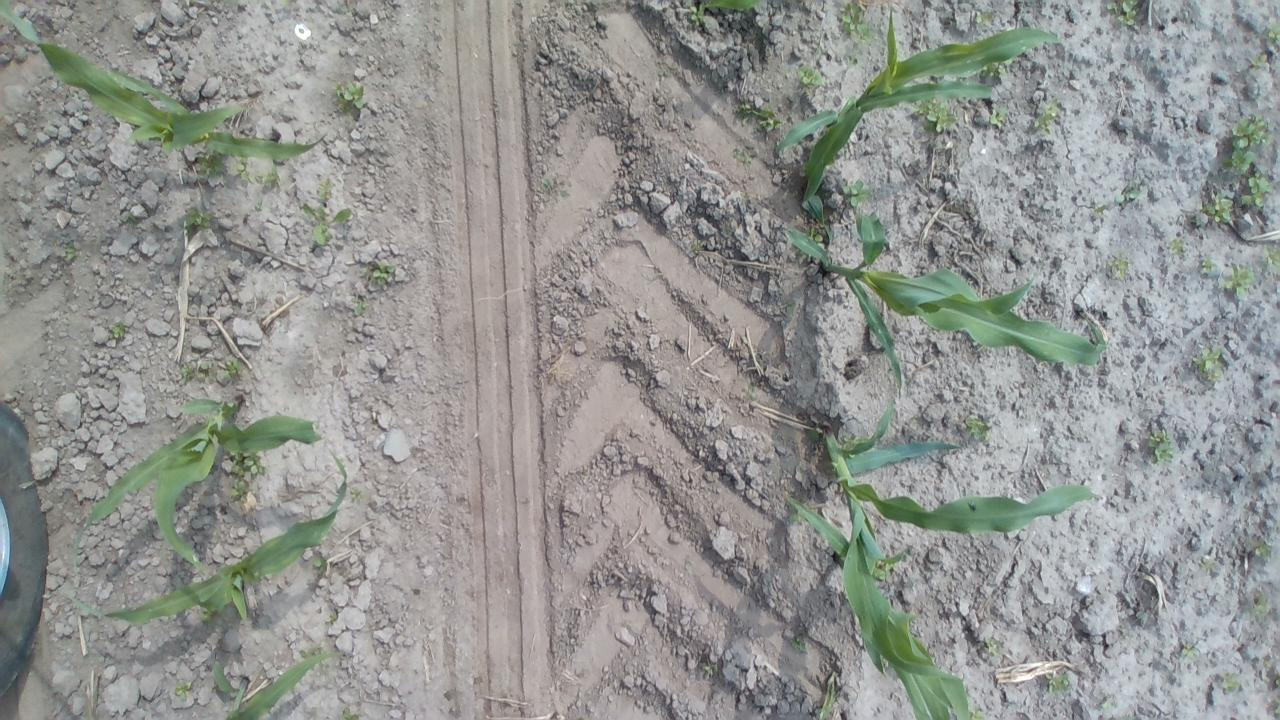Maize: (806, 395, 1096, 682), (774, 6, 1066, 250), (772, 209, 1108, 400), (1, 0, 329, 158), (69, 448, 351, 624), (69, 398, 324, 576), (782, 492, 972, 720), (212, 651, 345, 720), (818, 671, 839, 720), (704, 1, 762, 14)
Weeds: (1220, 113, 1272, 169), (298, 199, 354, 248), (224, 451, 267, 506), (1219, 258, 1259, 306), (1186, 194, 1234, 229), (908, 101, 958, 134), (731, 100, 782, 132), (836, 0, 872, 42), (331, 78, 366, 114), (1191, 344, 1223, 382), (1240, 172, 1272, 210), (1106, 0, 1141, 32), (1032, 95, 1060, 134), (184, 205, 217, 237), (1145, 428, 1174, 463), (358, 258, 397, 284), (1104, 250, 1130, 284), (196, 154, 230, 179), (840, 180, 870, 206), (1260, 244, 1280, 281), (258, 163, 284, 191), (540, 176, 572, 198), (1044, 672, 1074, 695), (964, 416, 992, 440), (972, 10, 999, 33), (728, 144, 758, 164), (796, 66, 824, 87), (1198, 252, 1222, 276), (655, 56, 681, 78), (1248, 594, 1270, 620), (1113, 186, 1144, 204), (236, 158, 256, 185), (314, 177, 336, 200), (1220, 670, 1244, 691), (108, 318, 128, 342), (1167, 233, 1187, 256), (1262, 22, 1280, 46), (1180, 640, 1204, 658), (989, 104, 1010, 124), (699, 656, 720, 676), (984, 634, 1002, 657), (874, 562, 896, 579), (176, 680, 193, 702), (740, 380, 757, 401), (62, 238, 78, 260), (352, 294, 368, 316), (1254, 540, 1272, 559), (792, 632, 808, 653), (116, 209, 138, 224), (982, 65, 1009, 77), (198, 606, 216, 624), (224, 358, 243, 375), (1248, 54, 1270, 68), (690, 4, 707, 22), (689, 235, 706, 253), (1198, 557, 1218, 572), (314, 554, 328, 574), (341, 706, 361, 720), (180, 360, 196, 377), (808, 226, 824, 242), (349, 487, 366, 502), (840, 433, 859, 446), (197, 362, 211, 378), (722, 218, 736, 234), (969, 708, 987, 720), (298, 648, 318, 658), (324, 610, 338, 624), (786, 297, 796, 315), (1095, 204, 1109, 216), (254, 198, 265, 212), (847, 53, 859, 65), (1273, 698, 1280, 715), (1264, 657, 1274, 668), (1100, 701, 1110, 709), (743, 192, 751, 200), (1275, 677, 1280, 687)
